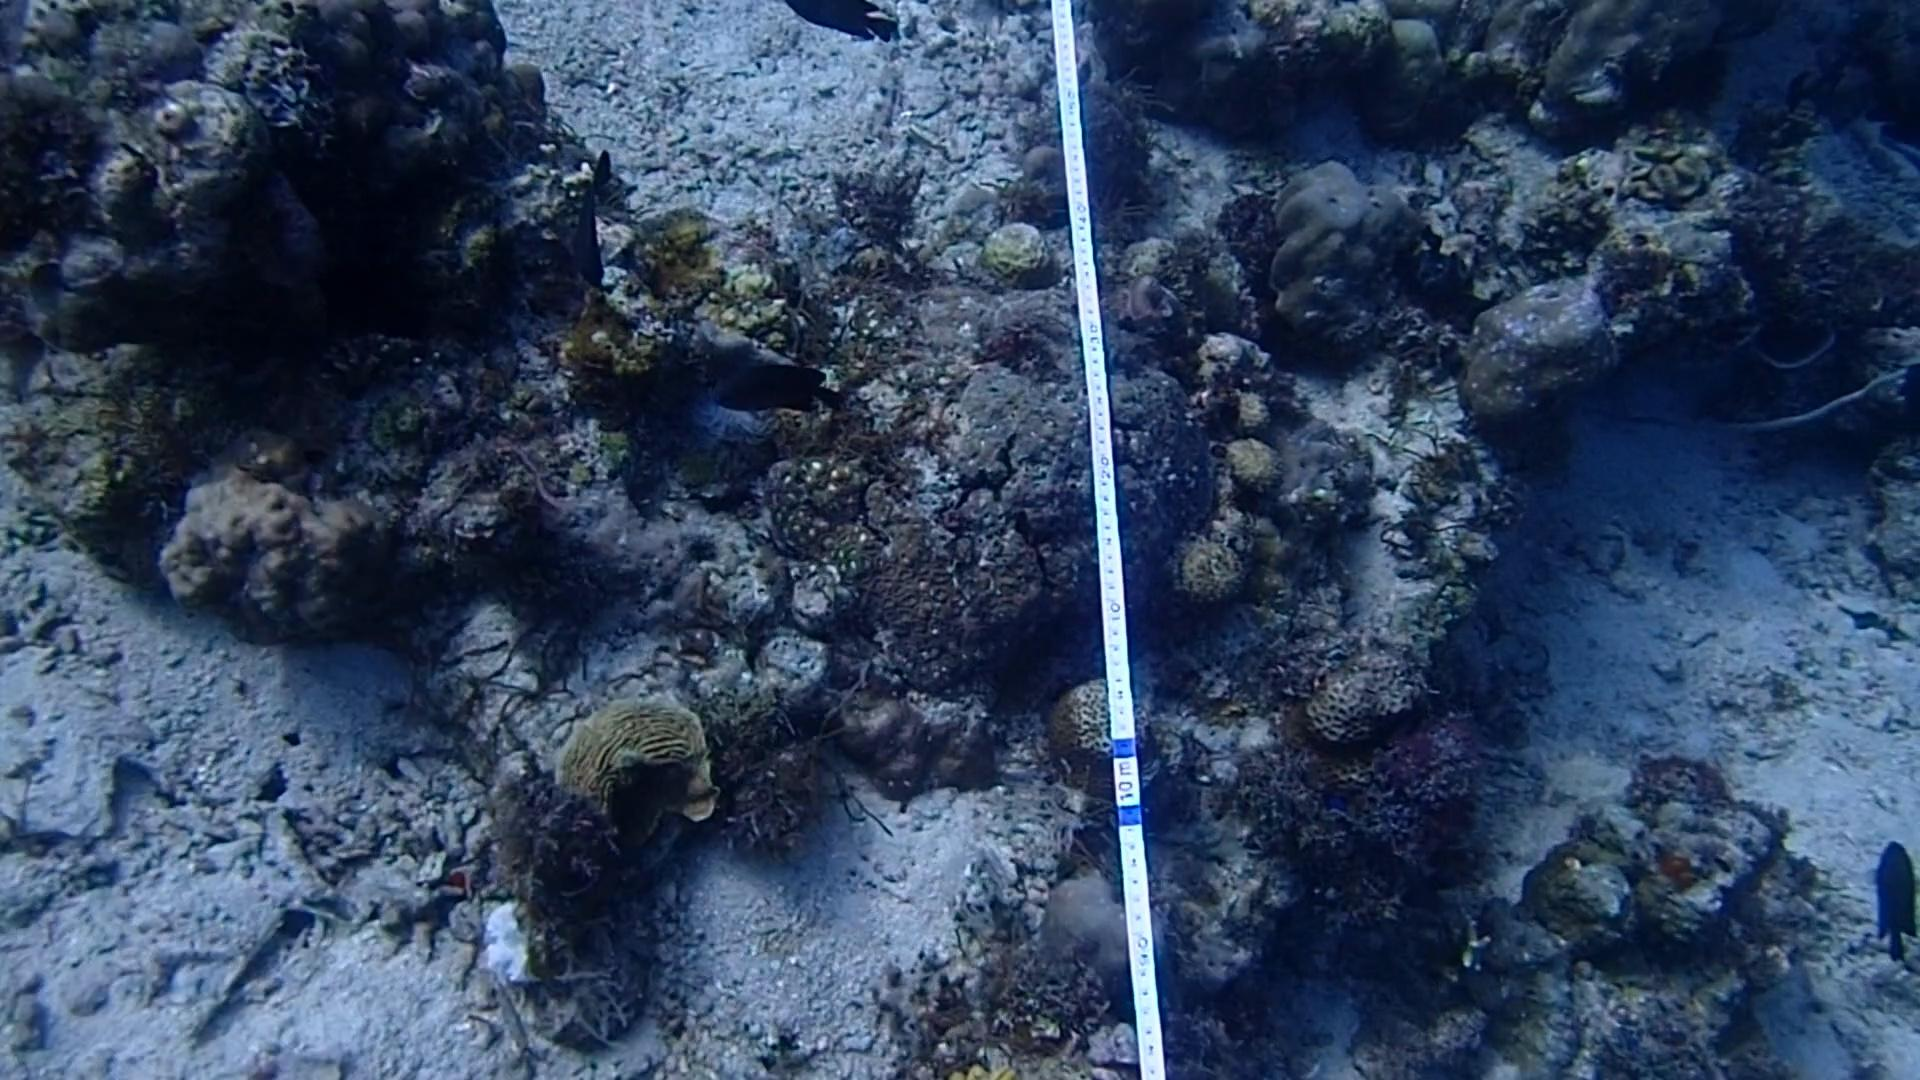Dark Fish: (547, 145, 644, 301), (705, 345, 852, 427), (1861, 832, 1920, 971)
